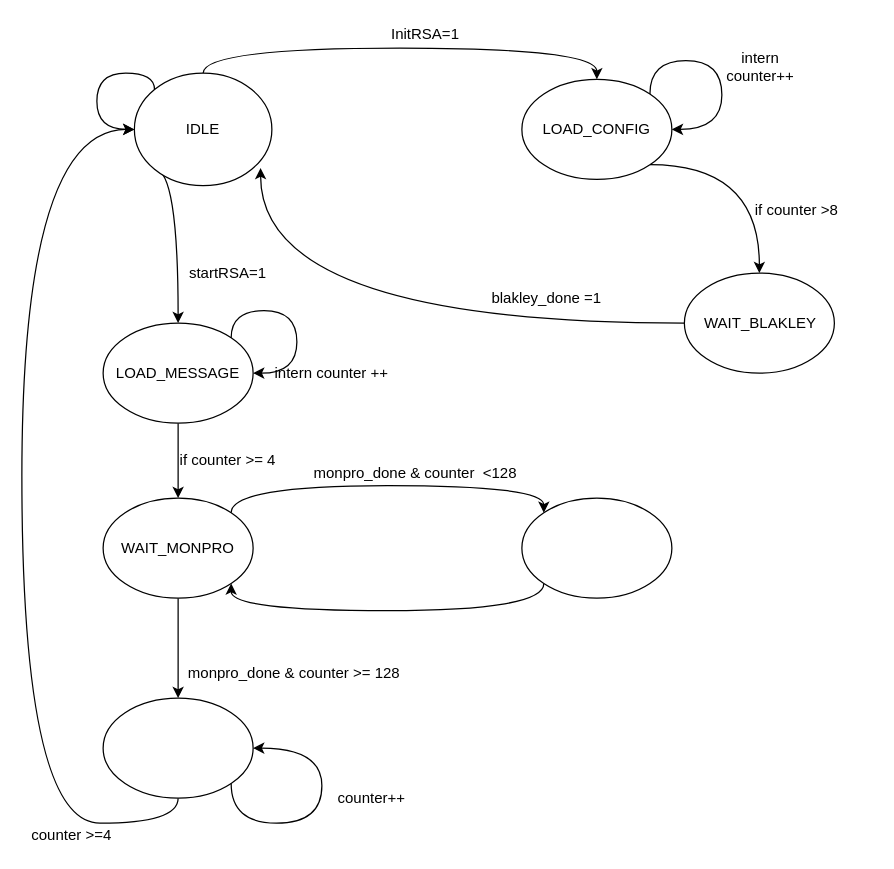
This 894x869 diagram has some shape labels left out. The shapes that lost their labels are listed below. From the top down, each one's centre as x and y in pixels, then its label:
point (596, 547): RUN_MONPRO
point (177, 747): OUTPUT_DATA
